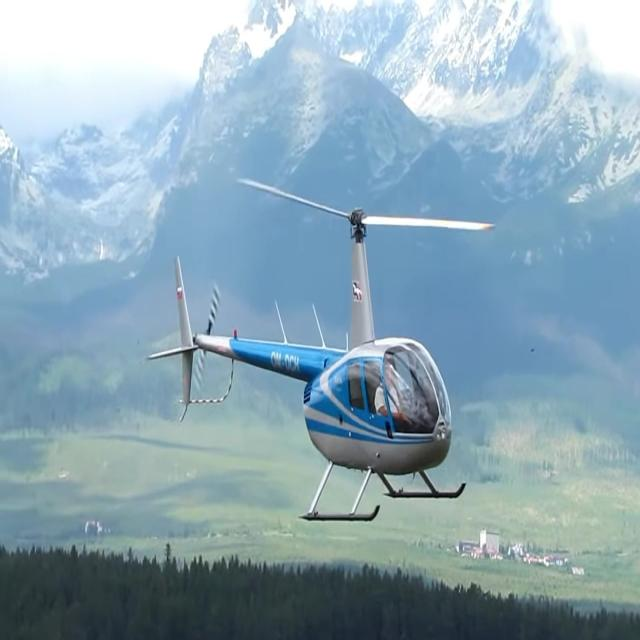CIV_HELO: (147, 205, 466, 529)
